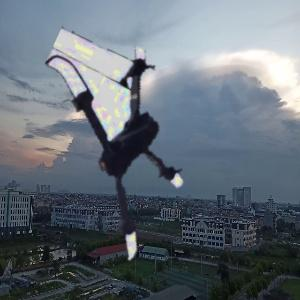drone: (16, 48, 224, 256)
